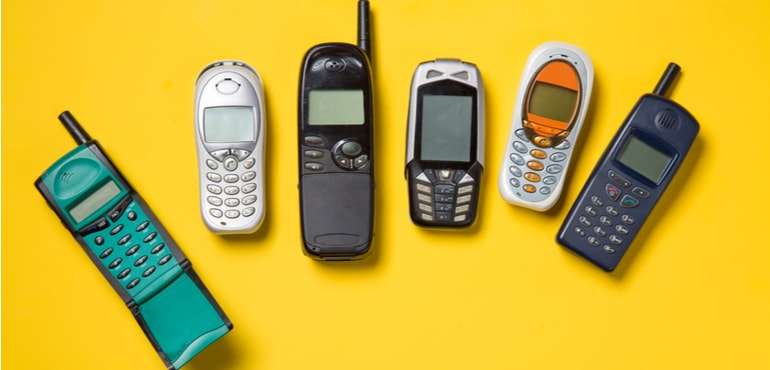phones: (16, 107, 229, 368), (581, 61, 706, 311), (292, 1, 392, 273), (486, 14, 598, 214), (178, 55, 285, 244), (398, 41, 495, 238)
